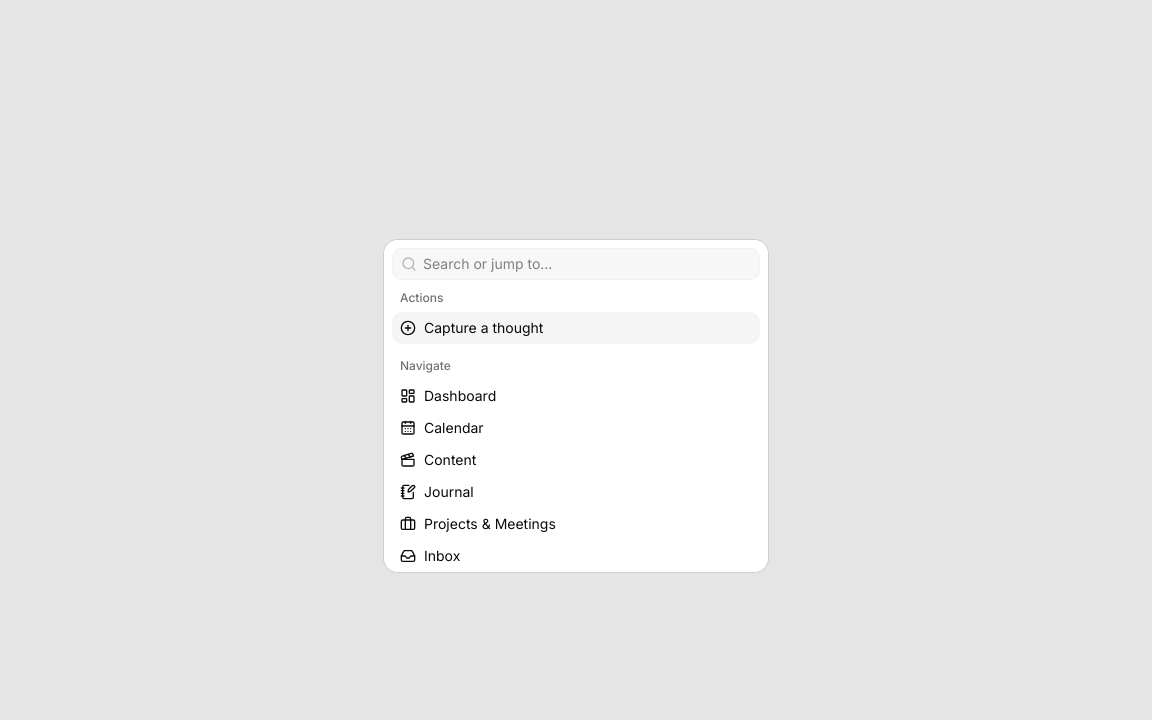
CommandPalette › filters the Navigate group by label while typing
Type "journal" into the dropdown at (588,264), box [417, 254, 759, 274]
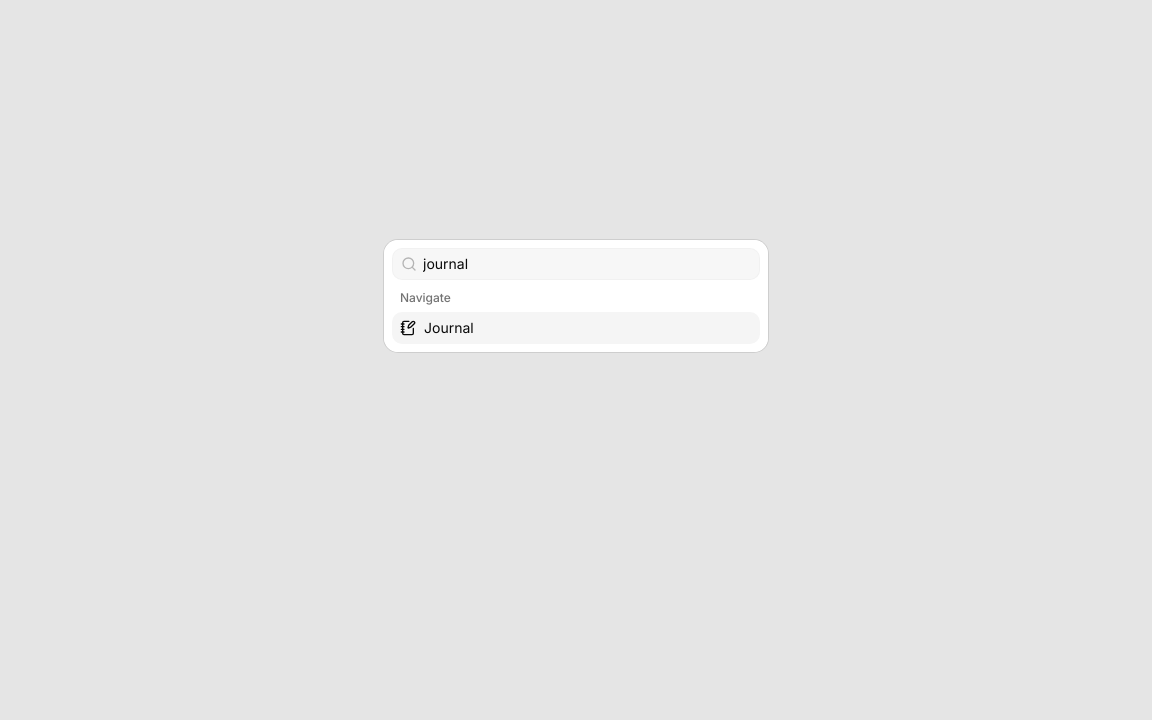
Expected: the option "Journal" is shown, [392, 312, 760, 344]
Result: the option "Dashboard" is gone
